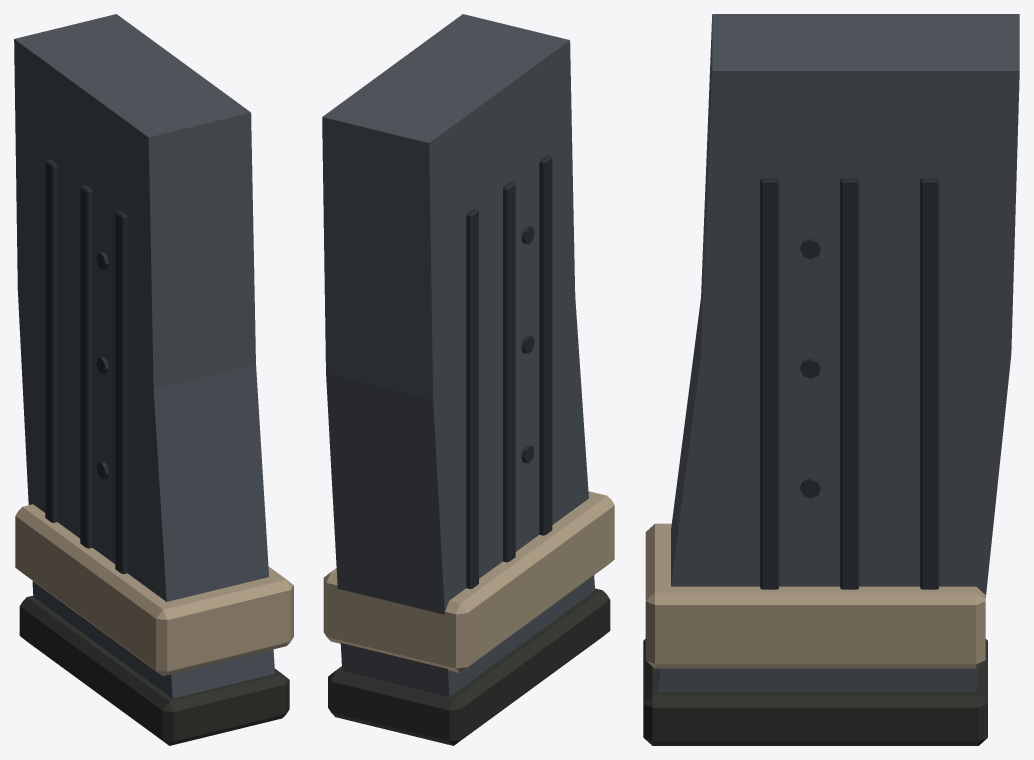
Rendered from att_mag_falcon762r_extended.glb.
The picture shows the model from 3 angles, left to right: view 1: azimuth 30°, elevation 25°; view 2: azimuth 150°, elevation 25°; view 3: azimuth 270°, elevation 25°; orthographic projection. The views are drawn at different scales.
Visible parts, largest first — view 1: Geometry_att_mag_falcon762r_extended; view 2: Geometry_att_mag_falcon762r_extended; view 3: Geometry_att_mag_falcon762r_extended.
Part boxes in pixels (box(x1,y1,x2,y2)): Geometry_att_mag_falcon762r_extended: box(14, 14, 293, 745); Geometry_att_mag_falcon762r_extended: box(322, 14, 614, 745); Geometry_att_mag_falcon762r_extended: box(643, 14, 1019, 745).
Size of the model in its own units: 0.039 by 0.1591 by 0.0808.
